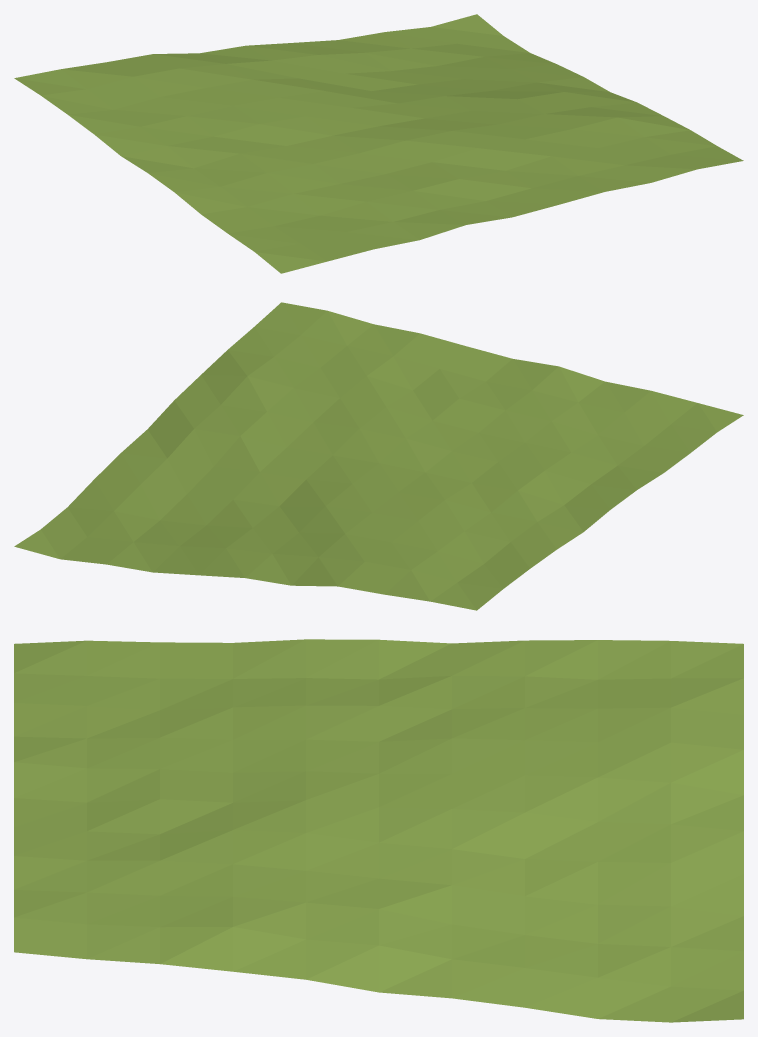
The model's file is terrain-plane_03-1.fbx.
The picture shows the model from 3 angles, top to bottom: view 1: azimuth 30°, elevation 25°; view 2: azimuth 150°, elevation 25°; view 3: azimuth 270°, elevation 25°; orthographic projection. The views are drawn at different scales.
Visible parts, largest first — view 1: terrain-plane_03-1; view 2: terrain-plane_03-1; view 3: terrain-plane_03-1.
Part boxes in pixels (bbox=[...]): terrain-plane_03-1: bbox=[14, 14, 743, 273]; terrain-plane_03-1: bbox=[14, 302, 743, 610]; terrain-plane_03-1: bbox=[14, 639, 743, 1022].
Bounding box in the file's own units: 2001 × 227 × 2000.
